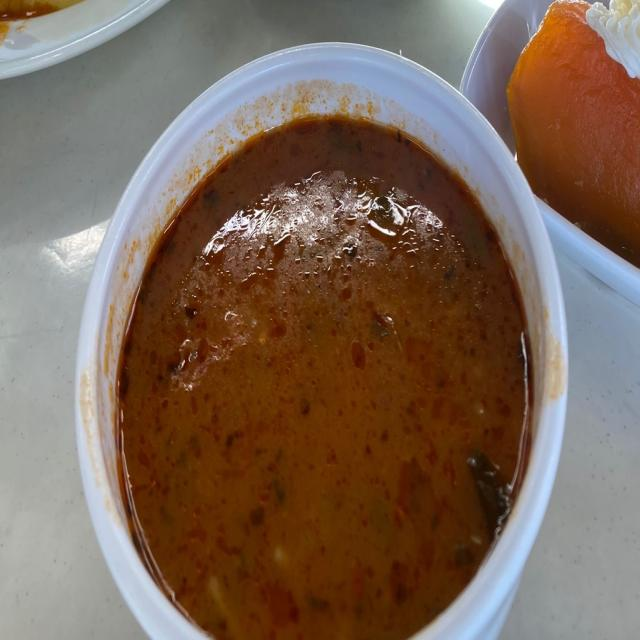corba: (75, 41, 569, 637)
